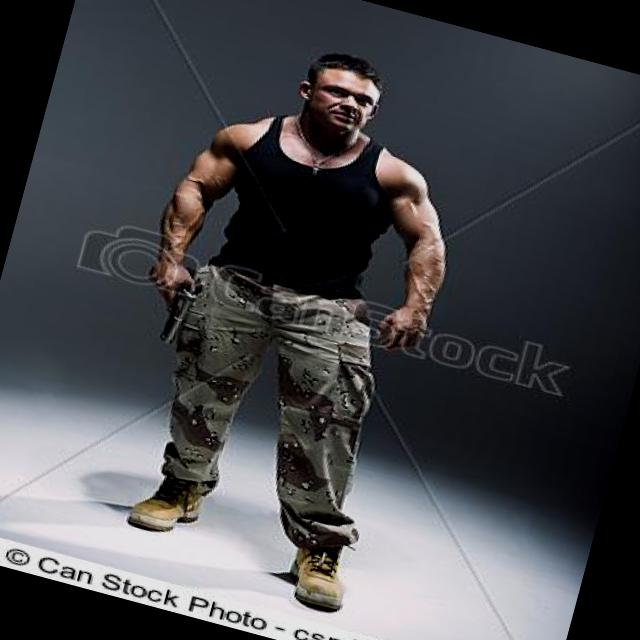handgun: (133, 270, 202, 348)
